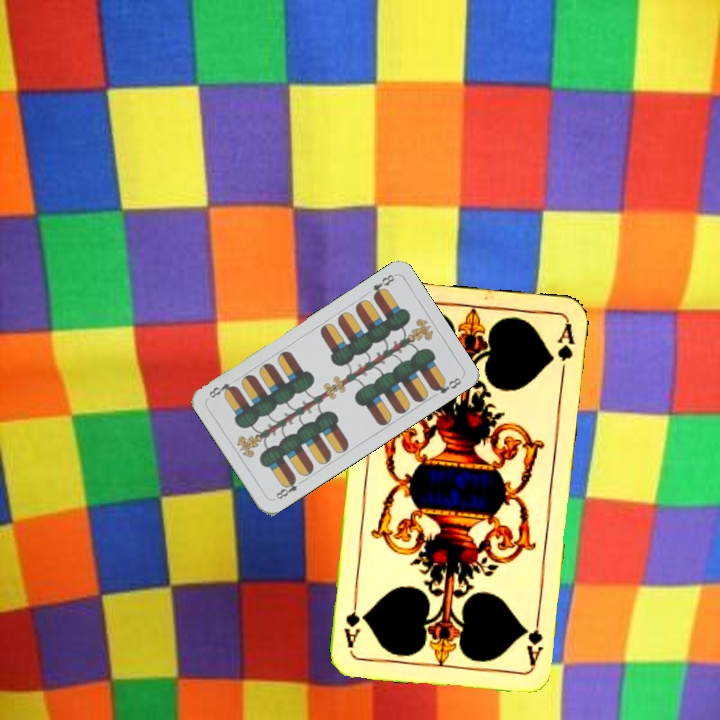E8: (272, 473, 306, 502), (369, 270, 398, 301)
GA: (523, 609, 547, 668)
